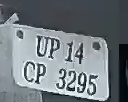1: (66, 40, 75, 64)
2: (67, 69, 77, 93)
3: (55, 67, 67, 90)
4: (76, 43, 85, 63)
5: (88, 72, 99, 97)
9: (77, 71, 86, 95)
C: (24, 58, 35, 86)
P: (48, 36, 61, 62), (35, 63, 47, 87)
U: (36, 34, 48, 59)
